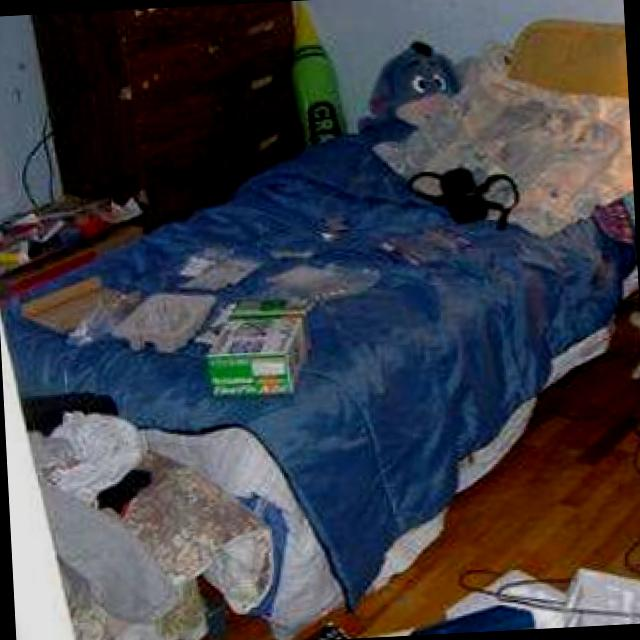mess: (12, 242, 486, 436), (260, 36, 636, 272), (262, 505, 640, 640), (0, 175, 154, 266)
